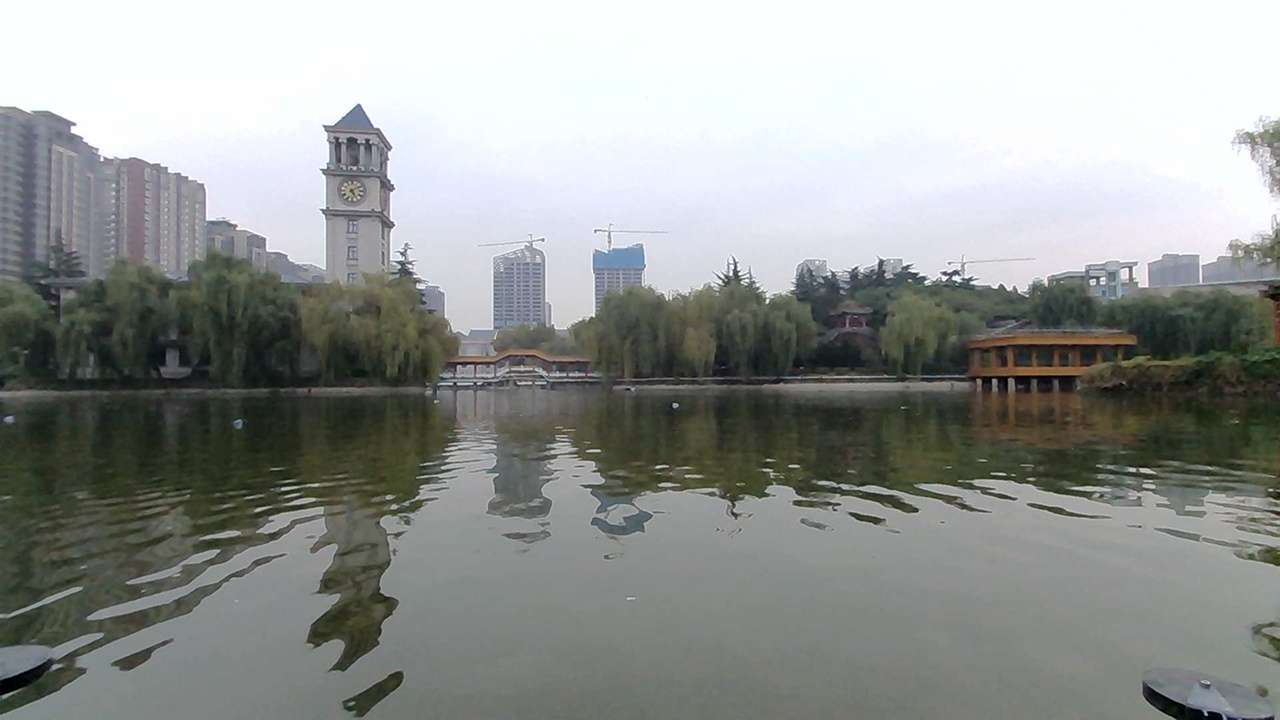bottle: (2, 404, 38, 428), (232, 411, 266, 433), (662, 393, 698, 412)
